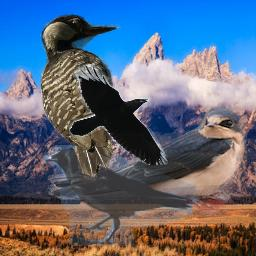Crow: (43, 145, 196, 246), (69, 63, 168, 165)
Swallow: (48, 105, 247, 214)
Woodpecker: (40, 13, 137, 182)
